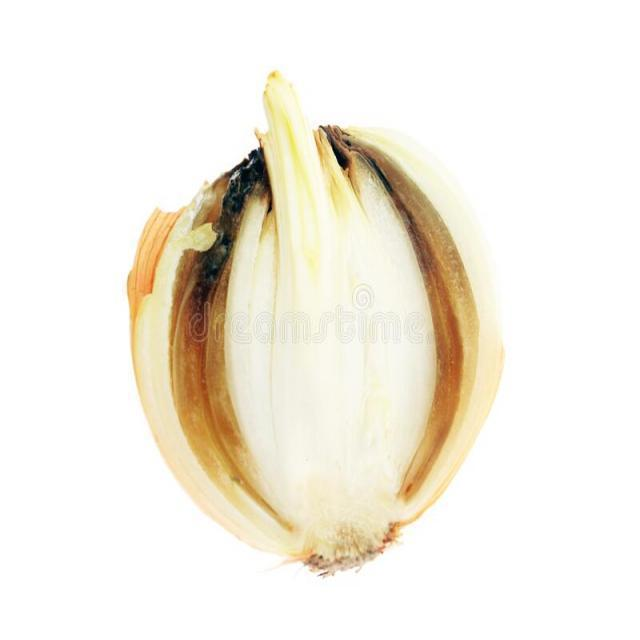Onion: (124, 65, 502, 580)
